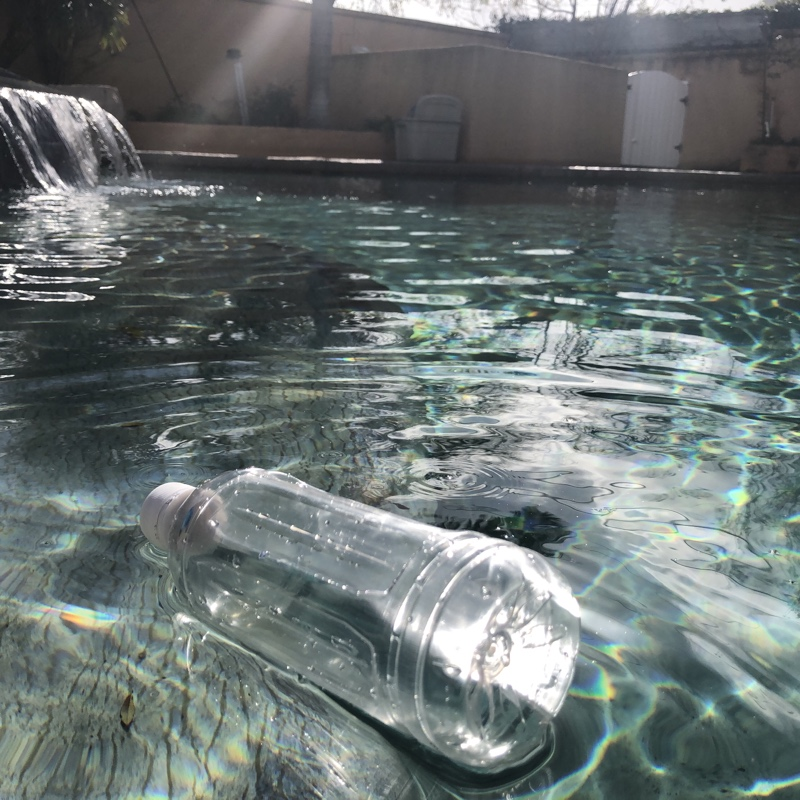Plastic Bottle: (129, 457, 583, 777)
